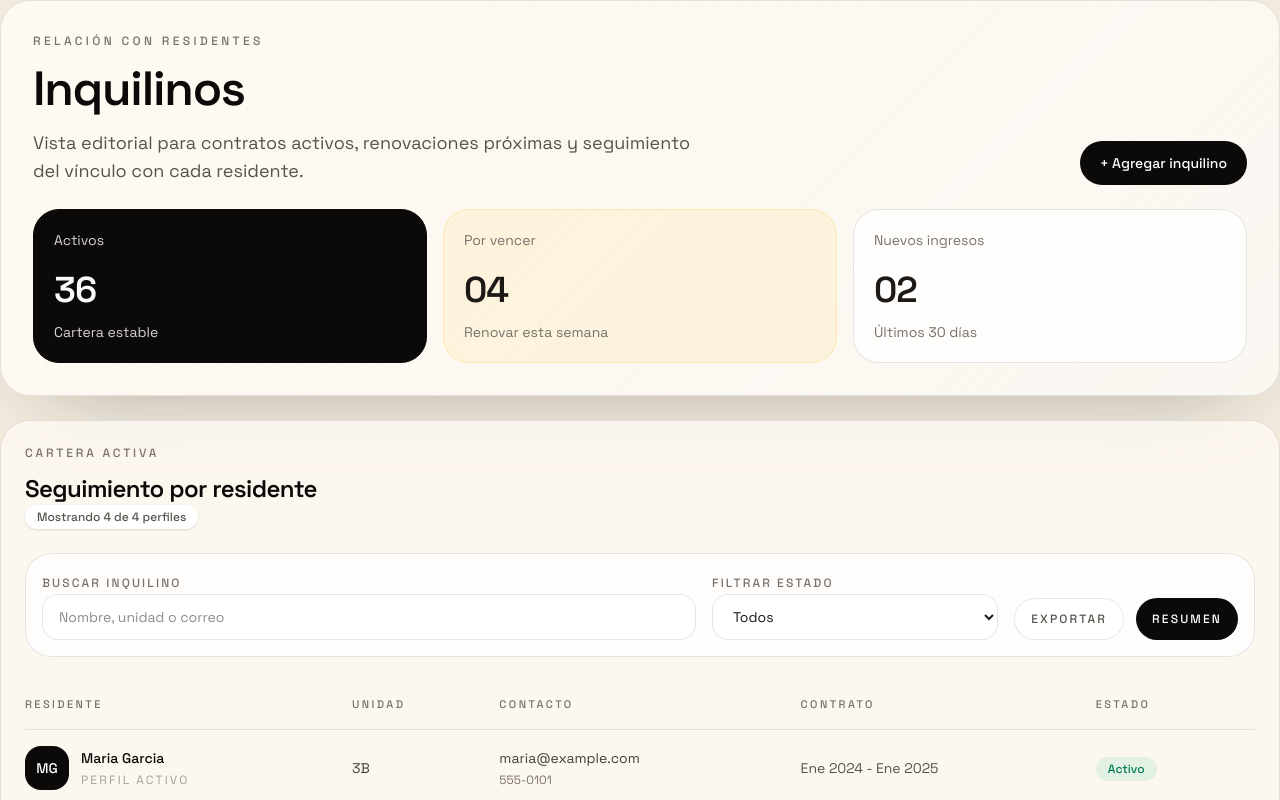
Management page filters › filters tenants by search query
Type "Sara" into the search field labelled "Buscar inquilino" at (369, 617), box x1=42 y1=594 x2=696 y2=640
Wait 220 ms
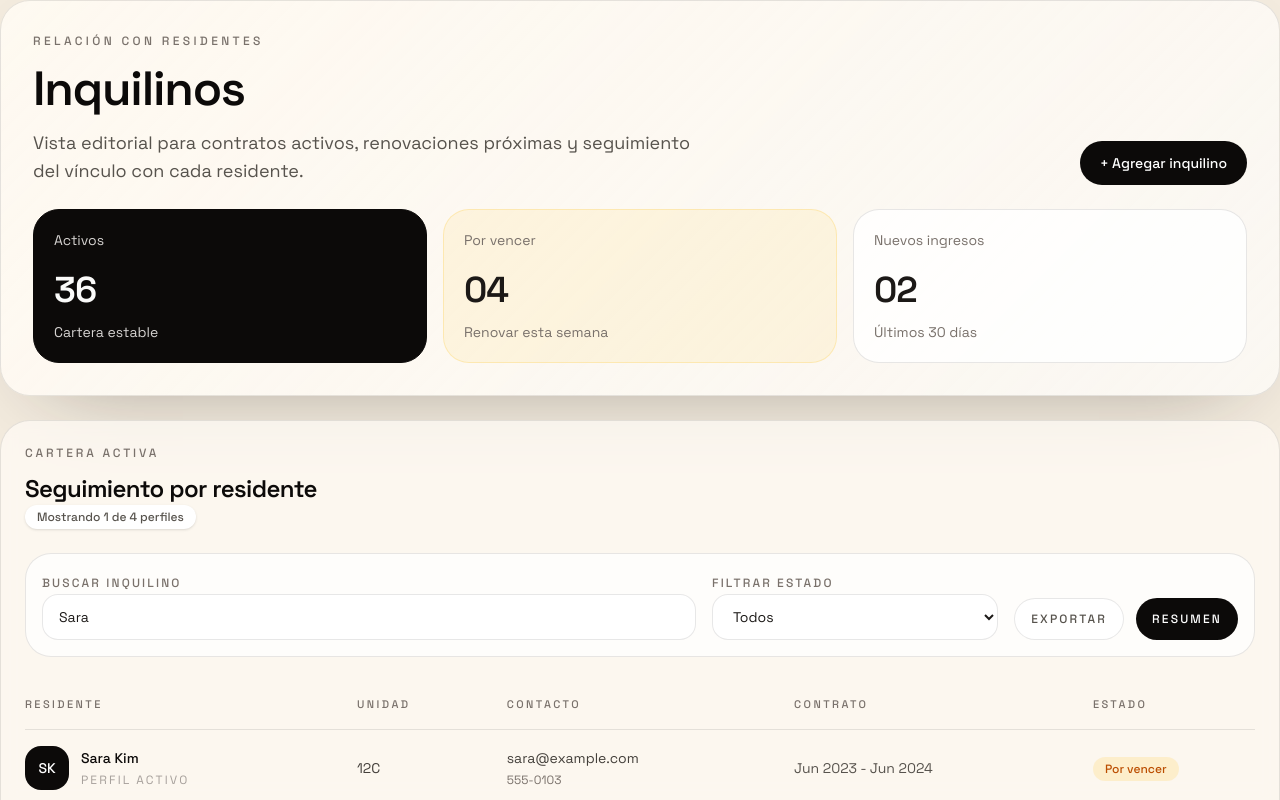
Check: the text "Sara Kim" is shown, box x1=81 y1=749 x2=139 y2=767
Check: the text "Maria Garcia" is gone
